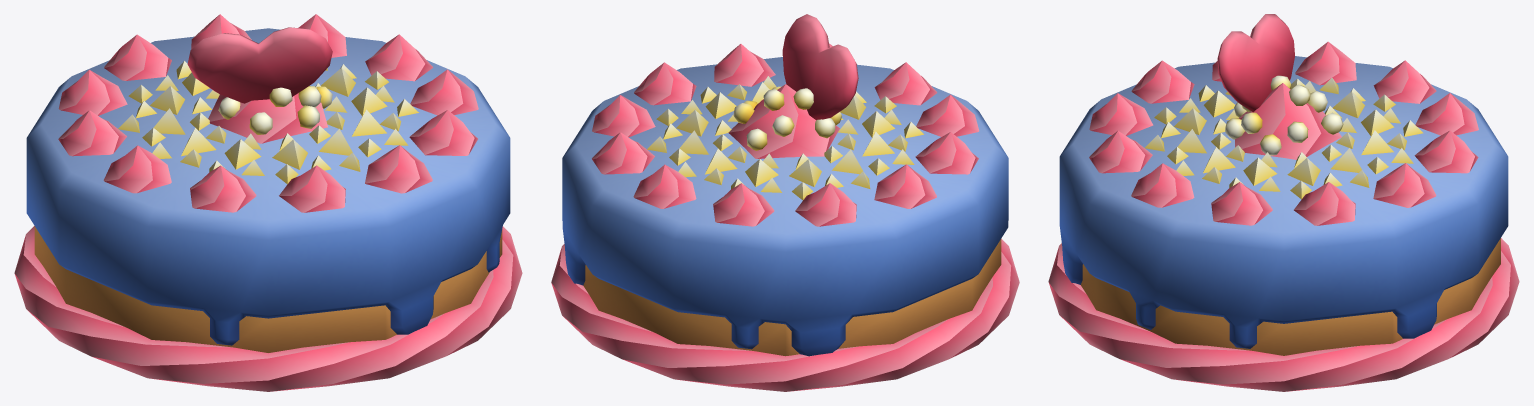
Rendered from m_TransCake01.fbx.
3 views of the same model, side by side, from view 1: azimuth 30°, elevation 25°; view 2: azimuth 150°, elevation 25°; view 3: azimuth 270°, elevation 25° (orthographic). The views are drawn at different scales.
Visible parts, largest first — view 1: m_TransCake01; view 2: m_TransCake01; view 3: m_TransCake01.
Part boxes in pixels (left/top/right/bottom): m_TransCake01: left=14, top=14, right=522, bottom=391; m_TransCake01: left=551, top=14, right=1019, bottom=391; m_TransCake01: left=1048, top=14, right=1519, bottom=391.
Bounding box in the file's own units: 30.41 × 18.85 × 30.41.
